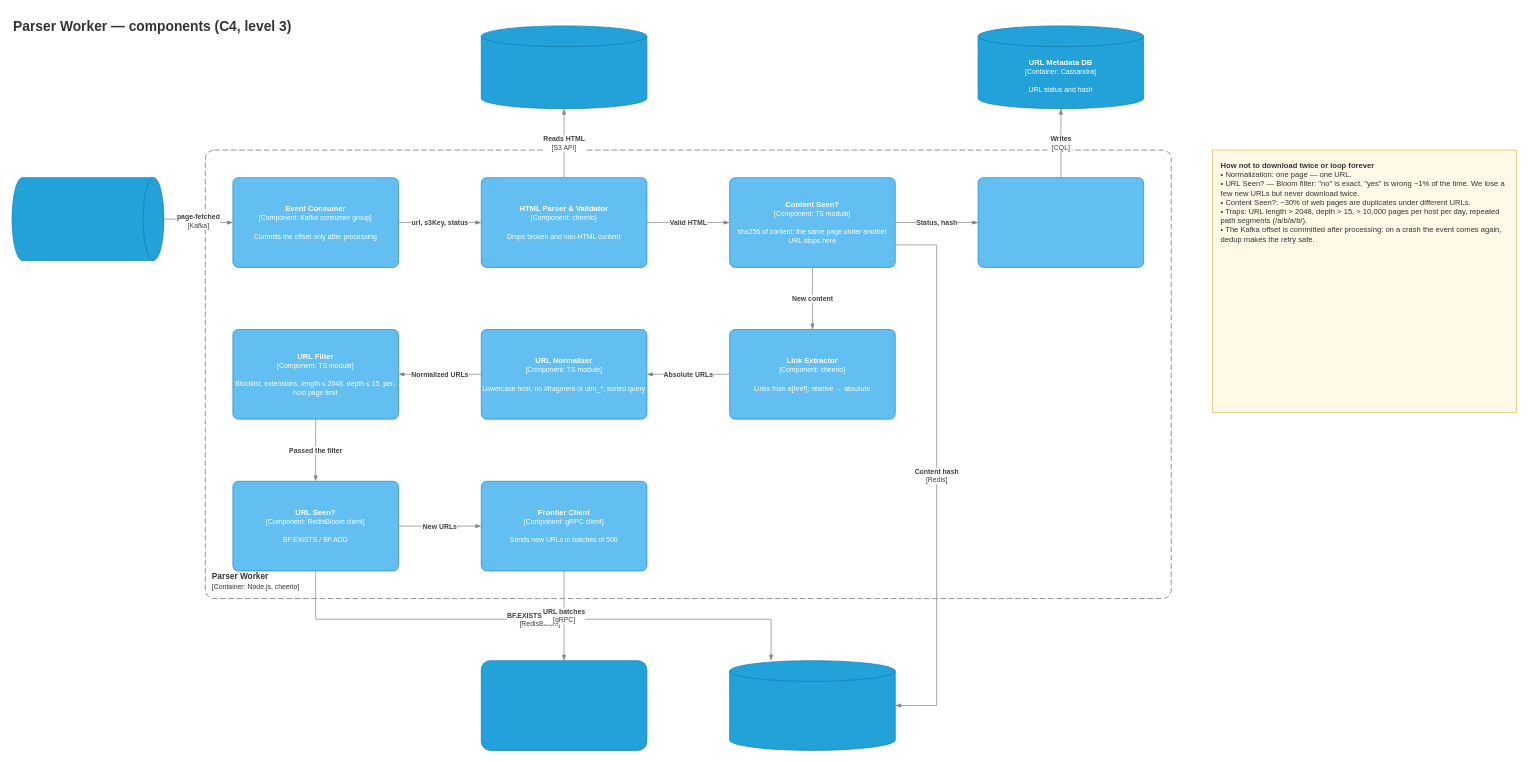
The diagram is 1528 pixels wide and 762 high, and some of its shapes have lost their labels. Here are the shapes that lost their labels. From the top down, the box of each, then its label:
(481, 25, 647, 109): Page Storage [Container: S3] Gzipped HTML
(11, 177, 164, 260): page-fetched [Container: Kafka topic] Fetch events
(977, 177, 1144, 267): Metadata Writer [Component: Cassandra driver] Status, hash, s3Key, crawl time
(481, 660, 647, 750): URL Frontier Service [Container: Node.js] URL queue
(729, 660, 895, 750): Dedup Store [Container: Redis + RedisBloom] URL Bloom filter, content hashes
